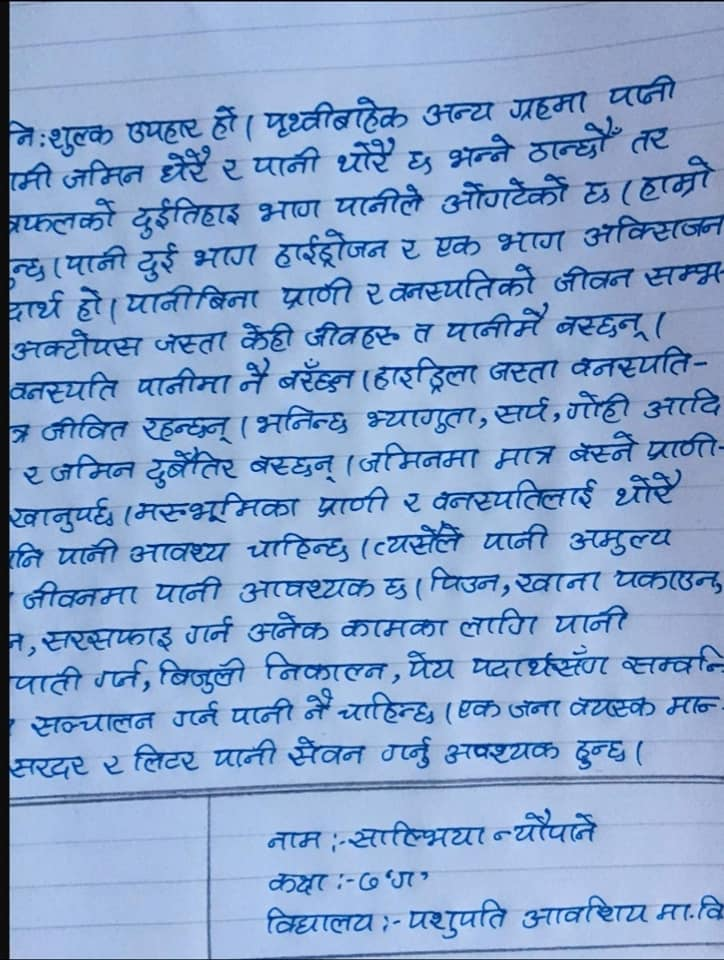text: (426, 476, 603, 518), (264, 92, 412, 140), (386, 262, 540, 305), (131, 491, 303, 528), (129, 191, 246, 240), (356, 435, 483, 480), (4, 191, 120, 240), (440, 171, 573, 213), (269, 229, 391, 274), (467, 644, 615, 681), (519, 893, 651, 934), (490, 807, 602, 855), (569, 344, 702, 383), (121, 280, 264, 316), (443, 728, 562, 771), (8, 111, 118, 157), (258, 649, 391, 687), (13, 325, 145, 363), (526, 117, 626, 167), (20, 576, 144, 616), (153, 651, 250, 702), (346, 821, 487, 856), (399, 897, 511, 941), (256, 903, 375, 944), (234, 574, 381, 607), (370, 355, 483, 397), (28, 706, 163, 741), (142, 444, 242, 491), (40, 622, 179, 654), (12, 368, 123, 408), (8, 495, 118, 534), (581, 213, 685, 253), (335, 689, 439, 729), (361, 403, 480, 437), (331, 180, 427, 222), (621, 641, 724, 680), (440, 306, 547, 343), (243, 530, 354, 565), (372, 520, 468, 560), (251, 402, 354, 439), (553, 307, 653, 345), (138, 408, 238, 446), (612, 468, 688, 518), (612, 562, 723, 596), (564, 523, 678, 556), (244, 607, 336, 647), (336, 611, 453, 642), (247, 448, 342, 486), (566, 688, 661, 726), (133, 368, 236, 403), (298, 315, 404, 349), (124, 535, 231, 568), (9, 746, 93, 788), (274, 357, 358, 398), (281, 729, 369, 768), (278, 272, 359, 313), (48, 451, 140, 487), (561, 386, 638, 429), (505, 86, 592, 124), (130, 739, 205, 783), (60, 156, 151, 192), (121, 111, 206, 149), (563, 428, 641, 469), (458, 606, 542, 644), (484, 350, 563, 390), (42, 411, 129, 447), (425, 558, 503, 597), (549, 262, 636, 296), (331, 138, 403, 179), (443, 134, 518, 173), (188, 235, 263, 274), (552, 602, 633, 638), (247, 143, 323, 181), (491, 223, 571, 259), (312, 486, 395, 520), (253, 191, 324, 230), (209, 736, 280, 775), (645, 430, 724, 465), (604, 73, 677, 110), (152, 572, 227, 608), (227, 692, 298, 730), (16, 664, 86, 702), (571, 730, 634, 772), (514, 565, 604, 594), (53, 535, 123, 572), (420, 96, 498, 129), (151, 326, 231, 358), (655, 893, 724, 930), (481, 521, 558, 554), (489, 437, 560, 472), (233, 317, 297, 355), (58, 245, 131, 278), (159, 146, 213, 190), (1, 154, 50, 202), (490, 393, 553, 430), (428, 226, 486, 266), (164, 696, 227, 732), (376, 733, 439, 769), (403, 648, 458, 689), (662, 687, 724, 723), (180, 613, 240, 650), (262, 868, 333, 899), (134, 238, 181, 283), (92, 656, 147, 694), (259, 823, 324, 855), (628, 119, 675, 161), (453, 690, 504, 726), (505, 695, 568, 724), (205, 96, 242, 144), (69, 281, 107, 327), (637, 257, 683, 291), (400, 143, 442, 180), (240, 355, 274, 399), (579, 174, 618, 212), (298, 690, 339, 726), (642, 390, 681, 423), (214, 150, 250, 185), (376, 572, 411, 606), (393, 229, 425, 266), (362, 275, 388, 313), (404, 319, 442, 344), (99, 749, 128, 781), (22, 458, 47, 494), (398, 488, 429, 517), (391, 862, 417, 896), (355, 866, 382, 893)
